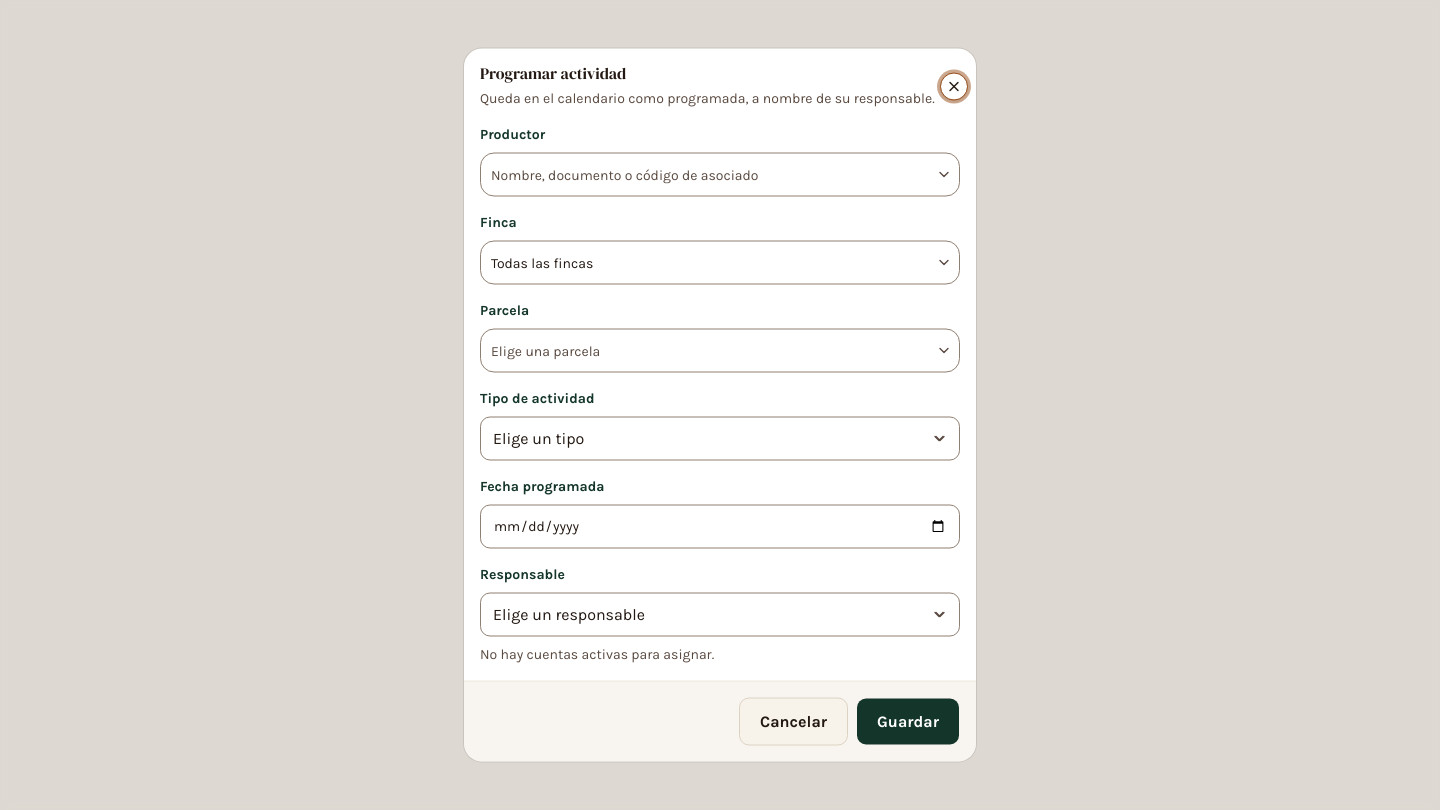
Test: ActivityFormDialog for the technical account › takes the producer of the responsible from the plot chosen, without choosing the producer
Click the dropdown labelled "Parcela" at (706, 350), box [481,334,932,366]
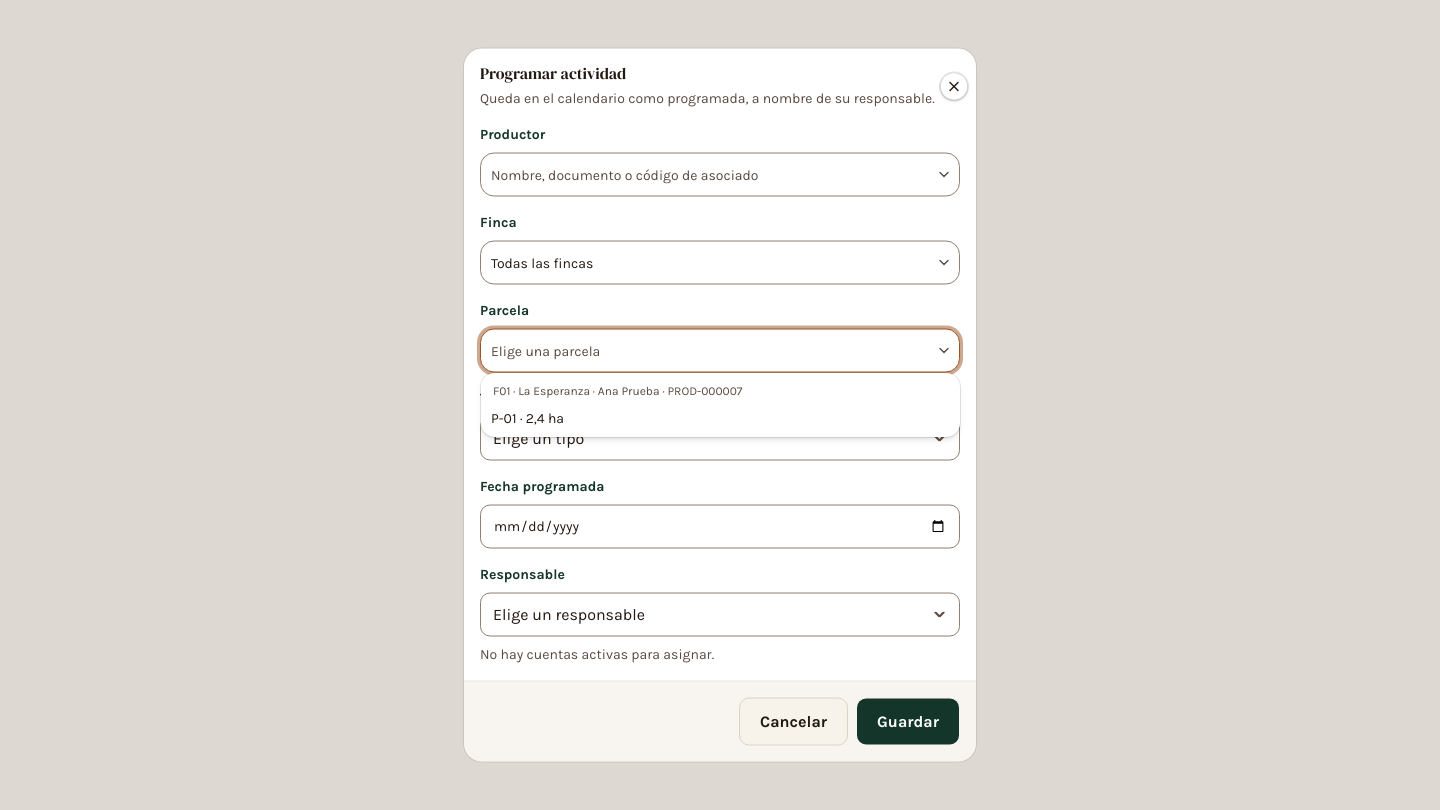
Click the option "P-01 · 2,4 ha" at (528, 418), box [491,410,564,427]
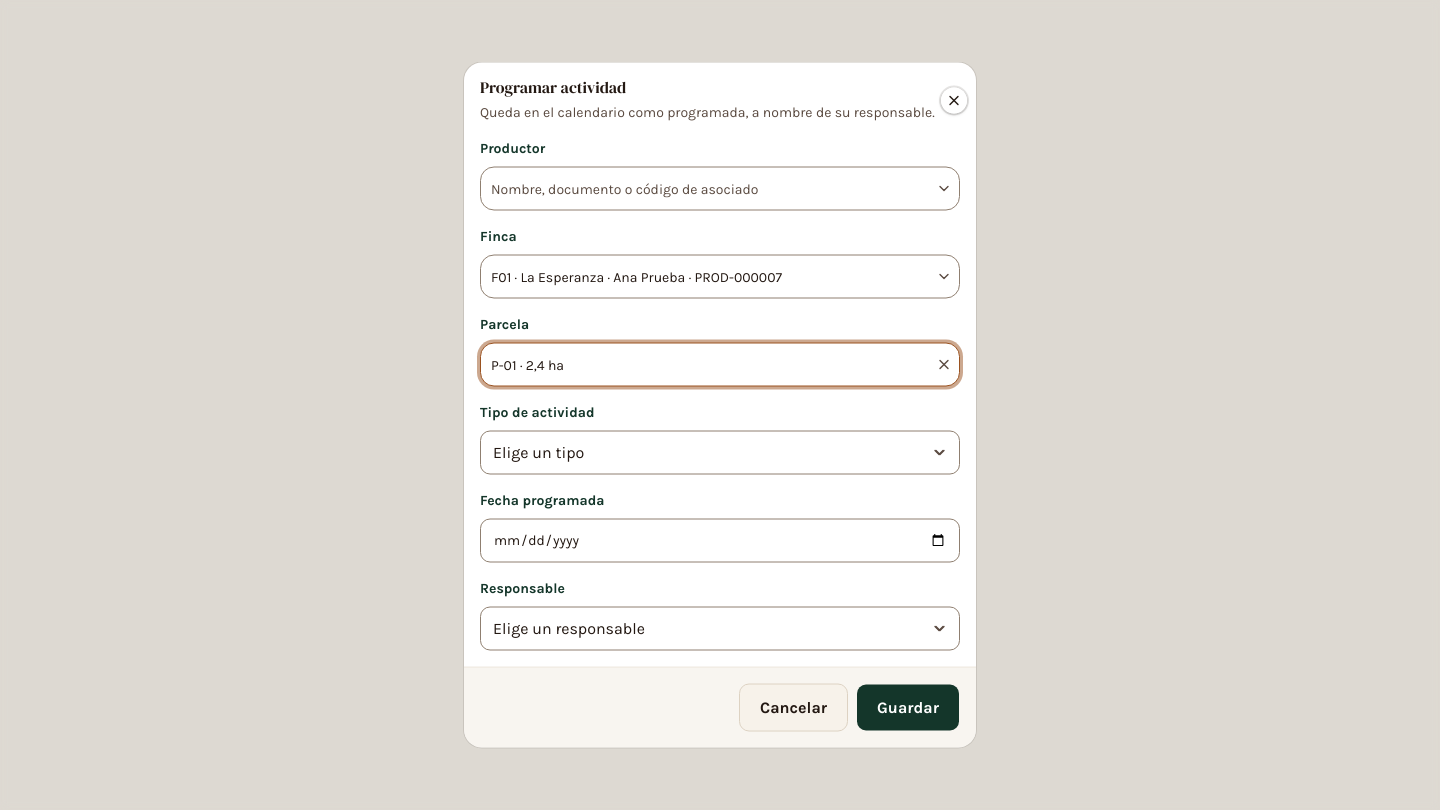
Check: the dropdown labelled "Finca" holds "F01 · La Esperanza · Ana Prueba · PROD-000007", box [481,260,932,292]
